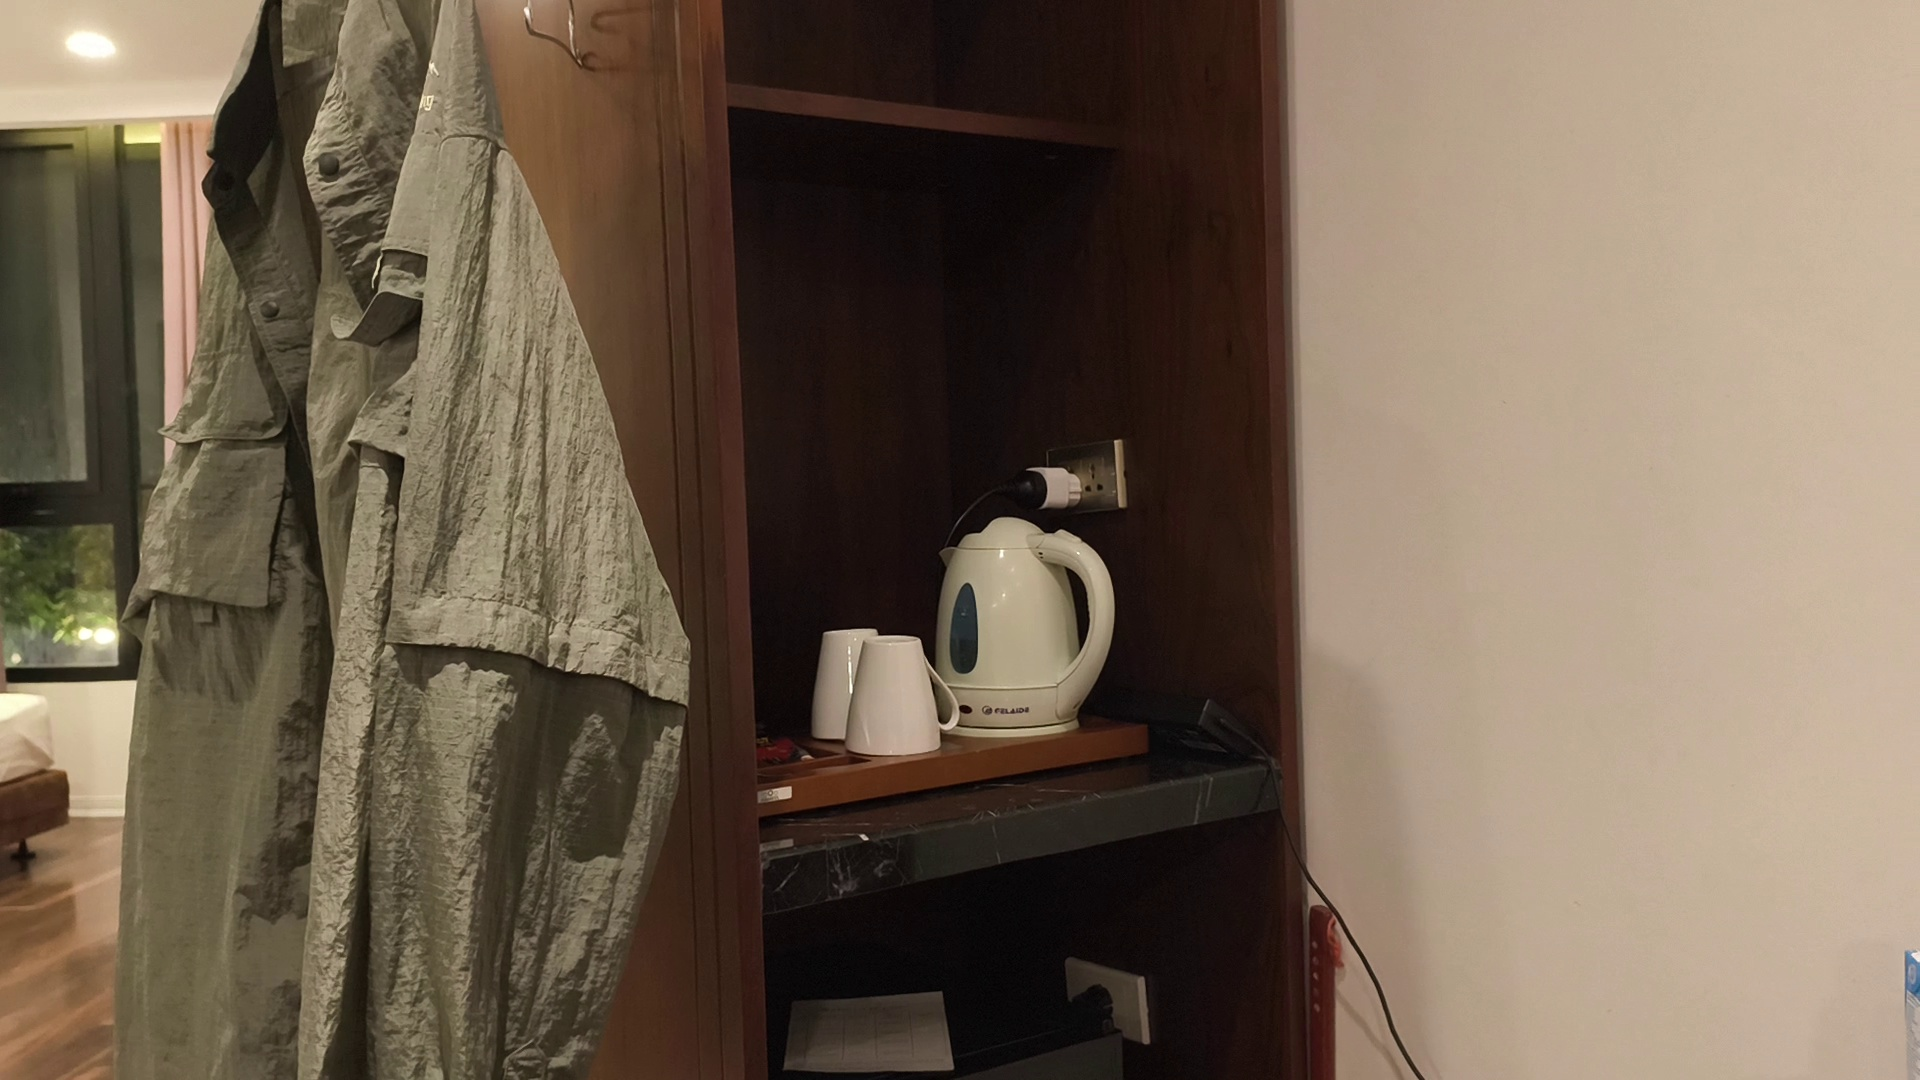cloth: (121, 99, 708, 1060)
cpu: (823, 629, 961, 758)
cup: (942, 520, 1113, 735)
dianxian: (1027, 438, 1121, 516)
windows: (9, 124, 185, 669)
